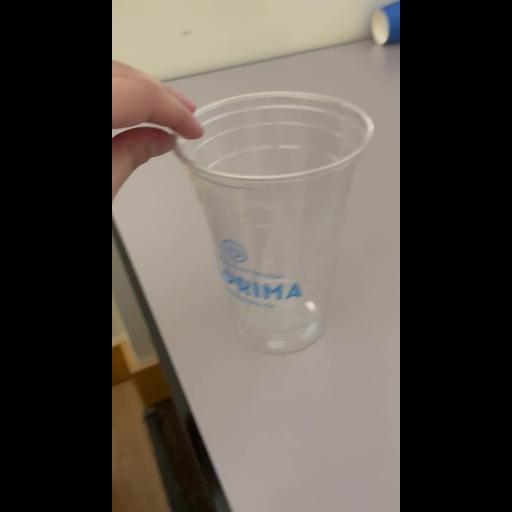lp_plastic_cup: (158, 88, 374, 354)
